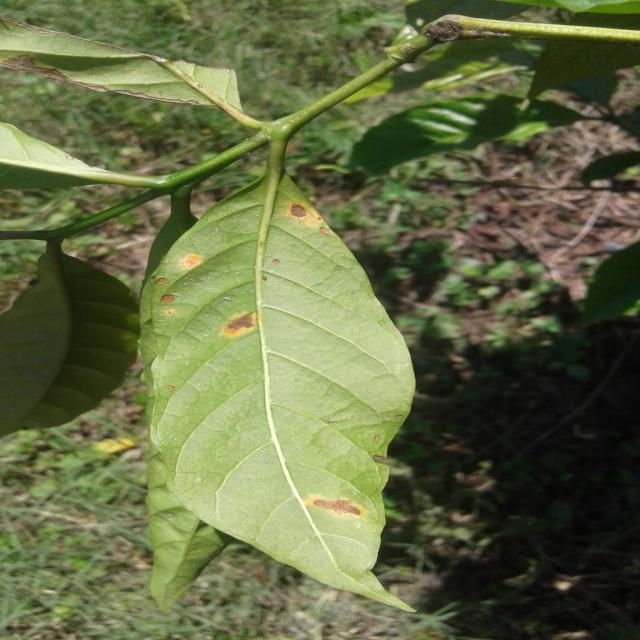Enfermedad-Roya: (140, 178, 416, 610)
